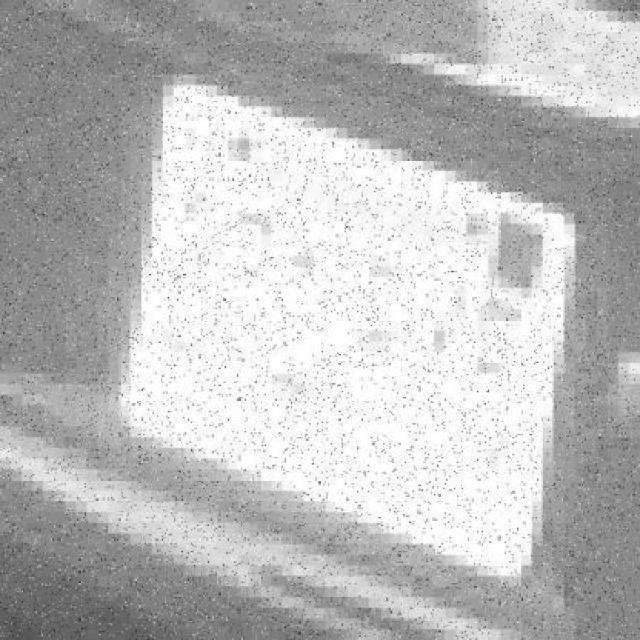licenseplate: (123, 54, 580, 577)
